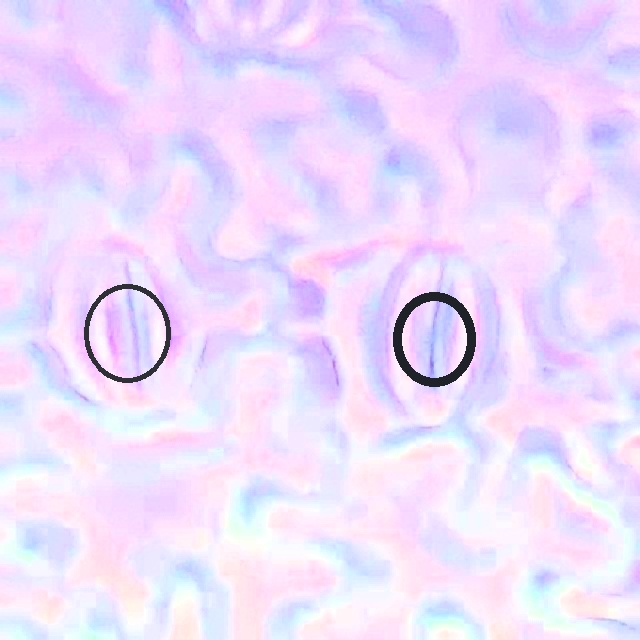open: (83, 284, 171, 383), (393, 290, 475, 387)
